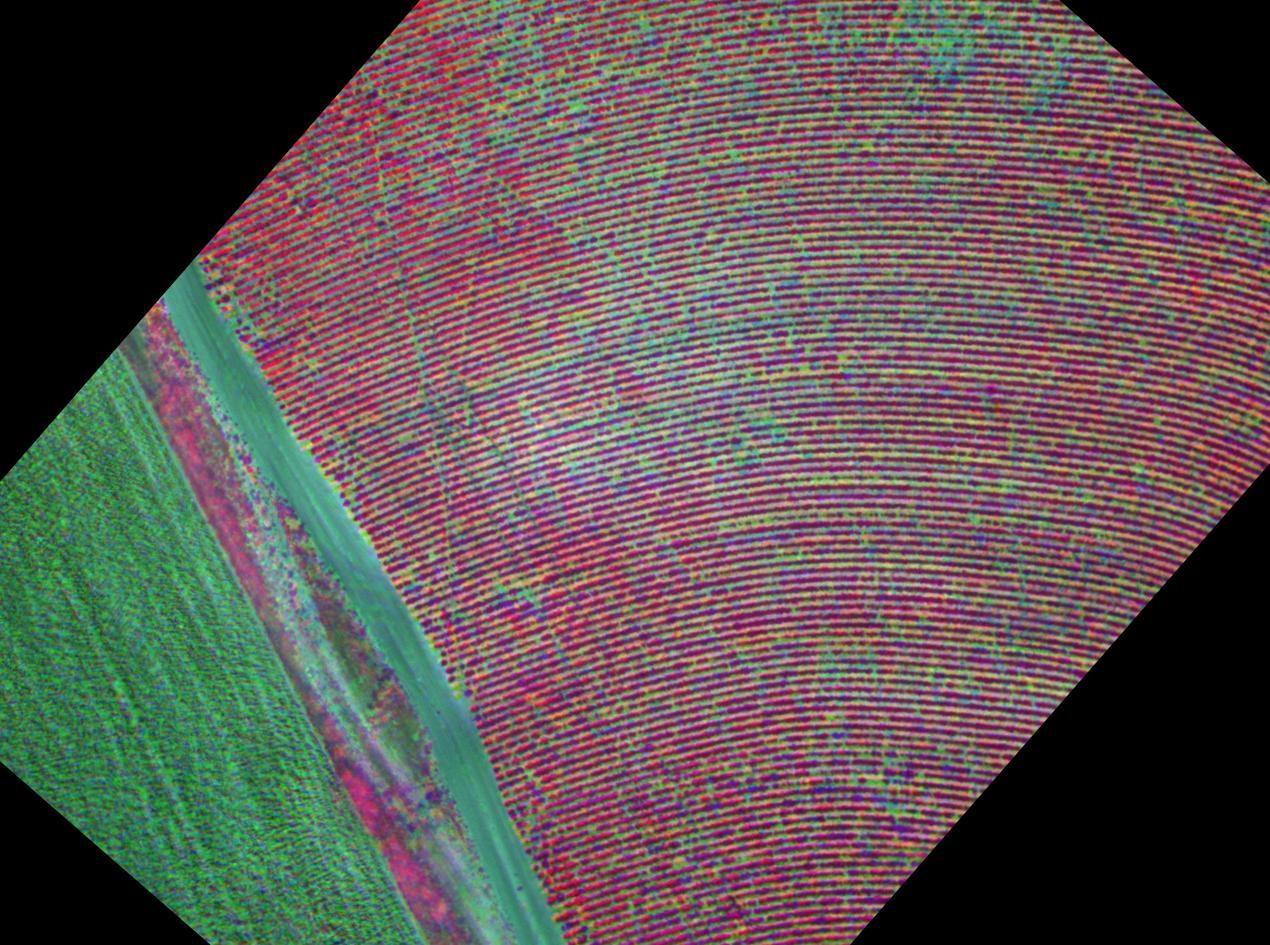dc: (869, 779, 874, 786), (1157, 220, 1163, 225), (498, 586, 504, 591), (456, 685, 461, 690), (1141, 340, 1145, 345), (401, 437, 406, 441), (1001, 488, 1006, 492), (954, 594, 959, 598), (591, 830, 595, 834)
